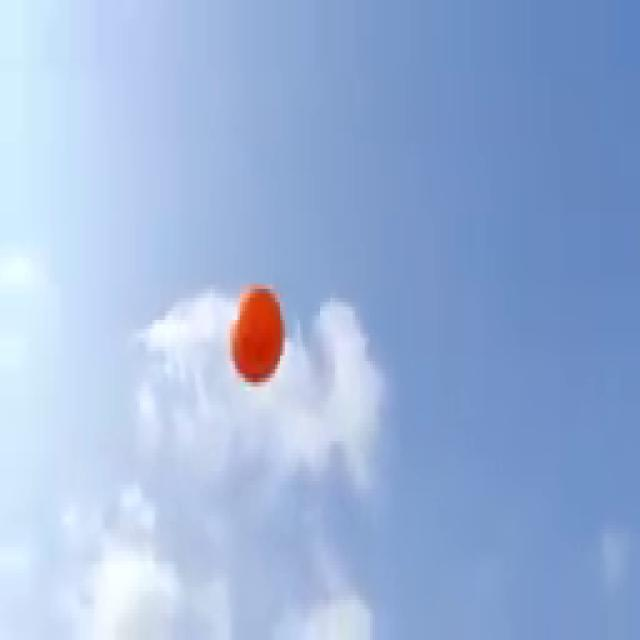red: (228, 282, 284, 387)
